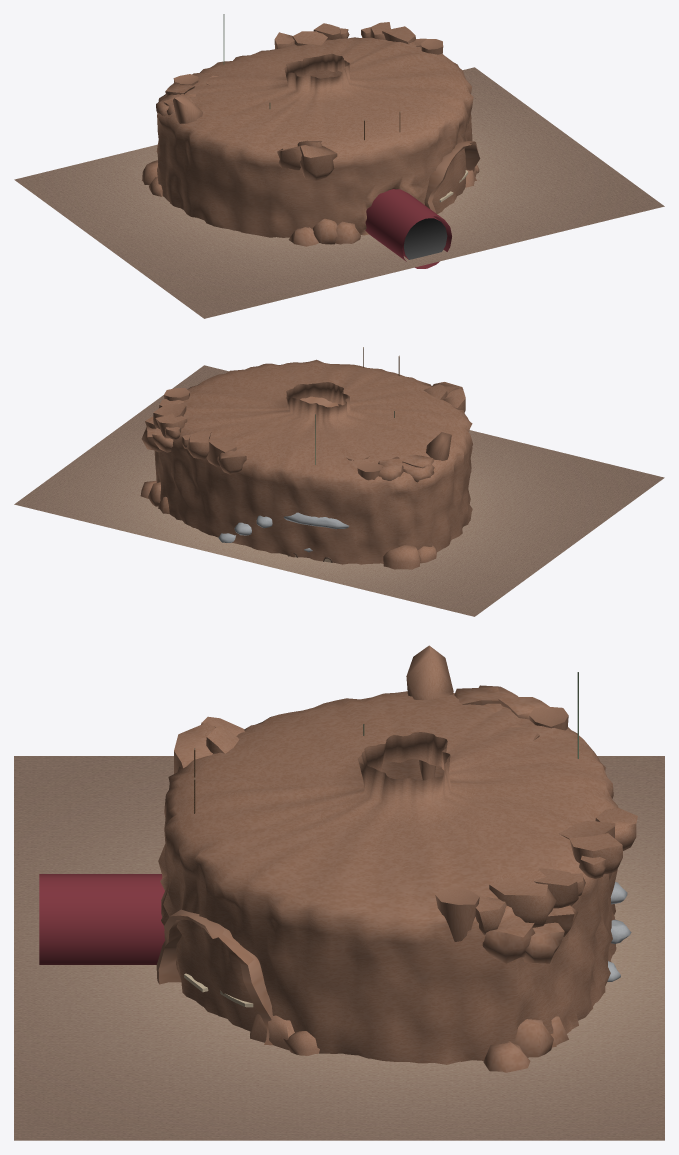
Rendered from lobby_0305.fbx.
3 renders of one model, top to bottom at view 1: azimuth 30°, elevation 25°; view 2: azimuth 150°, elevation 25°; view 3: azimuth 270°, elevation 25°, orthographic. The views are drawn at different scales.
Visible parts, largest first — view 1: Wall, Floor, GroundPipe, Stone.015, Stone.013, Stone.012, Stone.006, Stone.007, Stone.005, Stalactite.002, Stone.004; view 2: Wall, Floor, Stone.006, Stone.005, Stone.007, Stone.004, Stone.015, Stone.001, StoneBed.001, Stalactite.002, Stone.008; view 3: Wall, Floor, GroundPipe, Stone.007, Stone.012, Stone.006, Stone.001, Stone.008, Stalactite.002, Stone.015, Stone.005, Stone.011 (+2 smaller).
Boxes of the visible parts, left/top/right/bottom form: Wall: left=156, top=37, right=473, bottom=237; Floor: left=14, top=67, right=664, bottom=318; GroundPipe: left=365, top=189, right=451, bottom=268; Stone.015: left=277, top=140, right=337, bottom=180; Stone.013: left=288, top=218, right=360, bottom=246; Stone.012: left=424, top=141, right=480, bottom=212; Stone.006: left=274, top=23, right=349, bottom=48; Stone.007: left=361, top=22, right=426, bottom=47; Stone.005: left=156, top=82, right=195, bottom=116; Stalactite.002: left=173, top=95, right=202, bottom=123; Stone.004: left=142, top=160, right=162, bottom=196; Wall: left=154, top=359, right=472, bottom=564; Floor: left=14, top=365, right=664, bottom=616; Stone.006: left=181, top=431, right=246, bottom=474; Stone.005: left=378, top=454, right=434, bottom=482; Stone.007: left=153, top=399, right=187, bottom=439; Stone.004: left=383, top=545, right=436, bottom=569; Stone.015: left=424, top=382, right=465, bottom=412; Stone.001: left=141, top=416, right=173, bottom=452; StoneBed.001: left=283, top=512, right=349, bottom=529; Stalactite.002: left=426, top=432, right=451, bottom=460; Stone.008: left=140, top=480, right=169, bottom=513; Wall: left=158, top=691, right=618, bottom=1064; Floor: left=14, top=756, right=664, bottom=1140; GroundPipe: left=39, top=874, right=165, bottom=964; Stone.007: left=473, top=868, right=585, bottom=935; Stone.012: left=156, top=909, right=272, bottom=1045; Stone.006: left=559, top=808, right=637, bottom=878; Stone.001: left=482, top=905, right=577, bottom=963; Stone.008: left=483, top=1016, right=568, bottom=1072; Stalactite.002: left=406, top=645, right=453, bottom=780; Stone.015: left=174, top=716, right=244, bottom=773; Stone.005: left=454, top=685, right=549, bottom=719; Stone.011: left=250, top=1014, right=319, bottom=1055.
Size of the model in its own units: 18.46 by 6.07 by 13.2.
